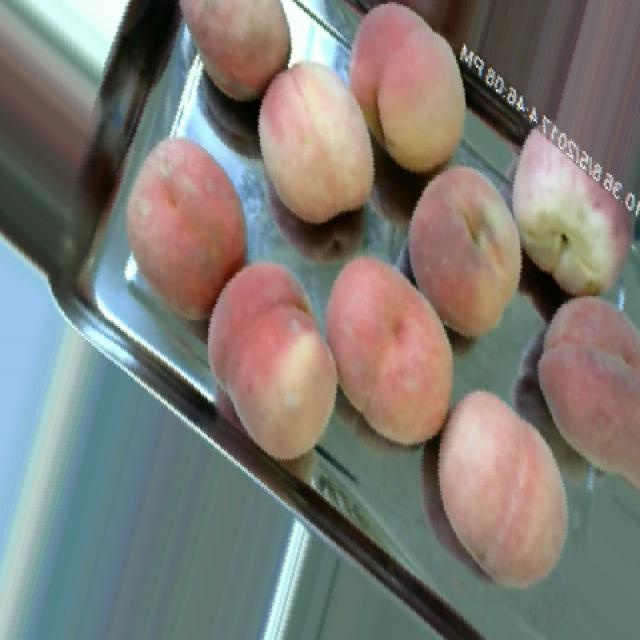Fruit: (405, 368, 584, 606), (183, 240, 341, 481), (103, 119, 264, 338), (327, 239, 480, 467), (234, 38, 398, 238), (326, 0, 498, 189), (383, 143, 533, 356), (516, 274, 640, 521), (159, 0, 309, 119)
